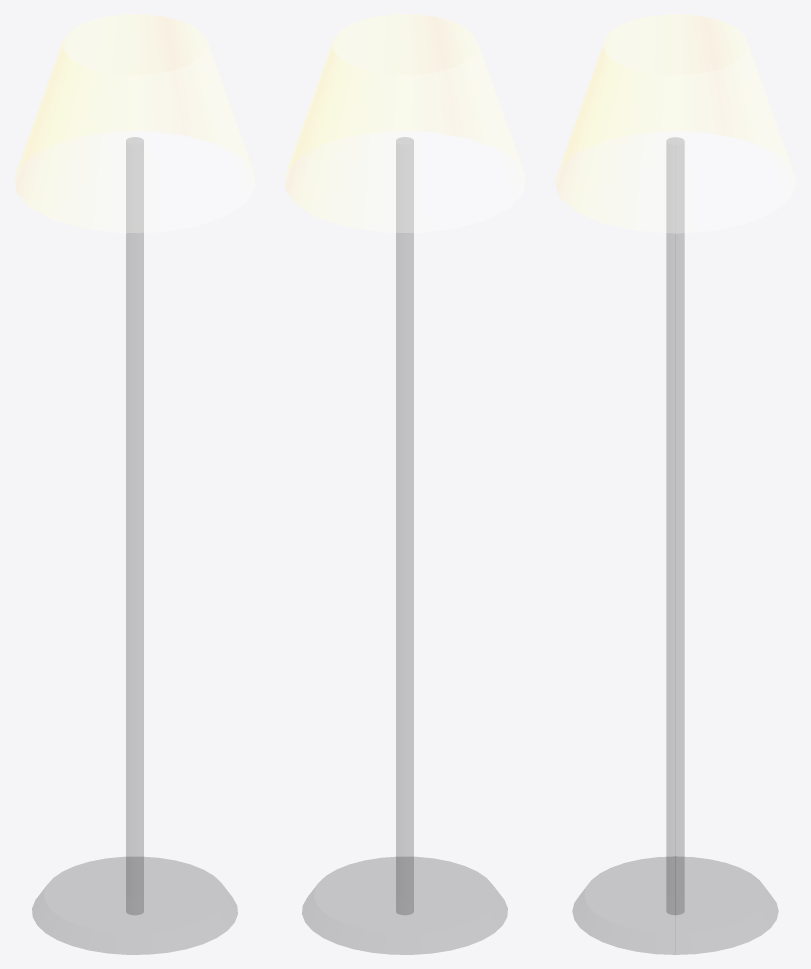
Rendered from lamp-ghost.glb.
The picture shows the model from 3 angles, left to right: view 1: azimuth 30°, elevation 25°; view 2: azimuth 150°, elevation 25°; view 3: azimuth 270°, elevation 25°; orthographic projection.
Bounding box in the file's own units: 0.4 × 1.57 × 0.4.
